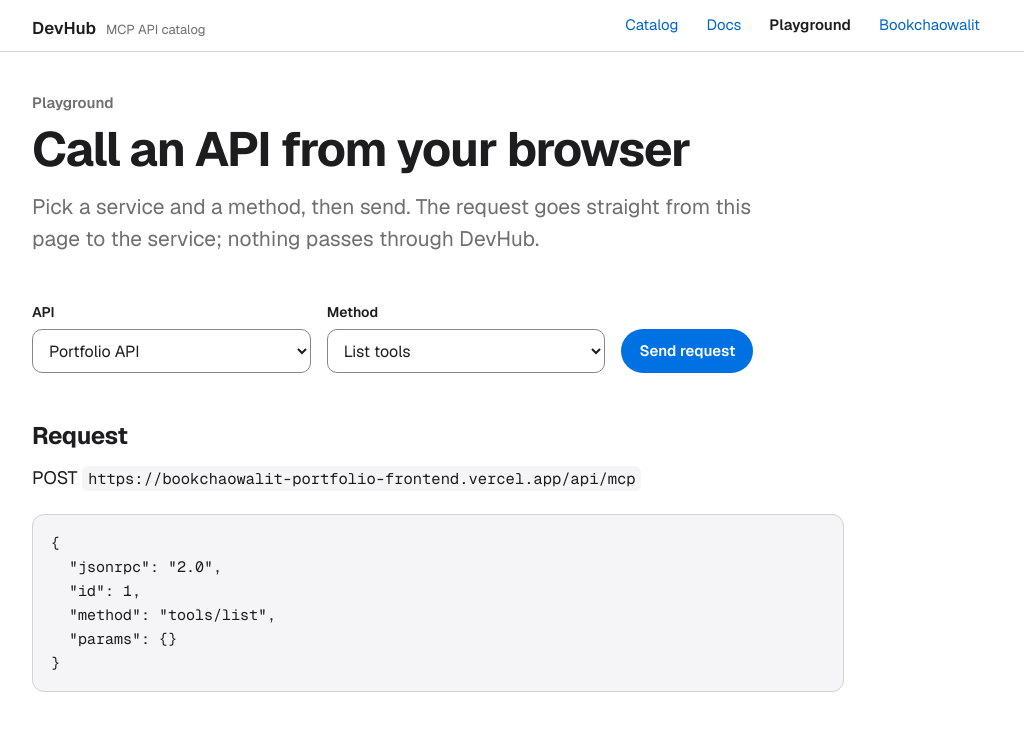
Test: playground › reports a failed copy
This screenshot has width=1024, height=730.
Submit the form, box [32,302,753,373]
(page scrolled)
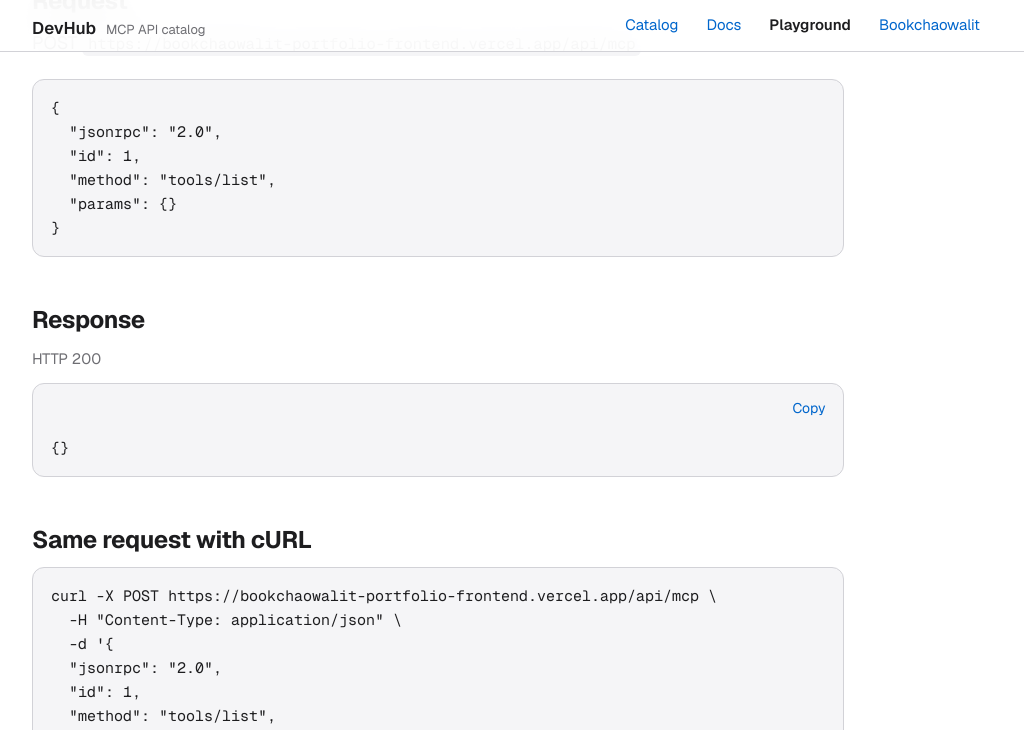
Click the button with class "rs-copy" at {"x": 809, "y": 409}, box [778,387,840,431]
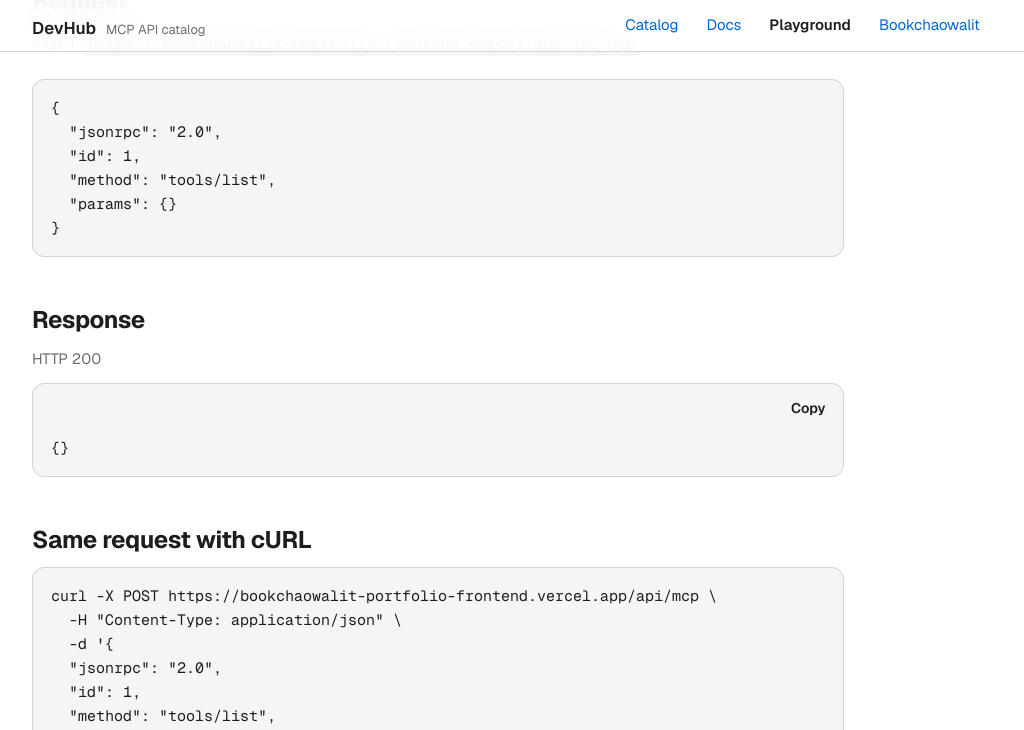
Check: the button with class "rs-copy" has attribute data-state="failed", box [777,387,840,431]
